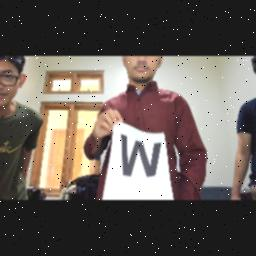w: (116, 132, 170, 184)
